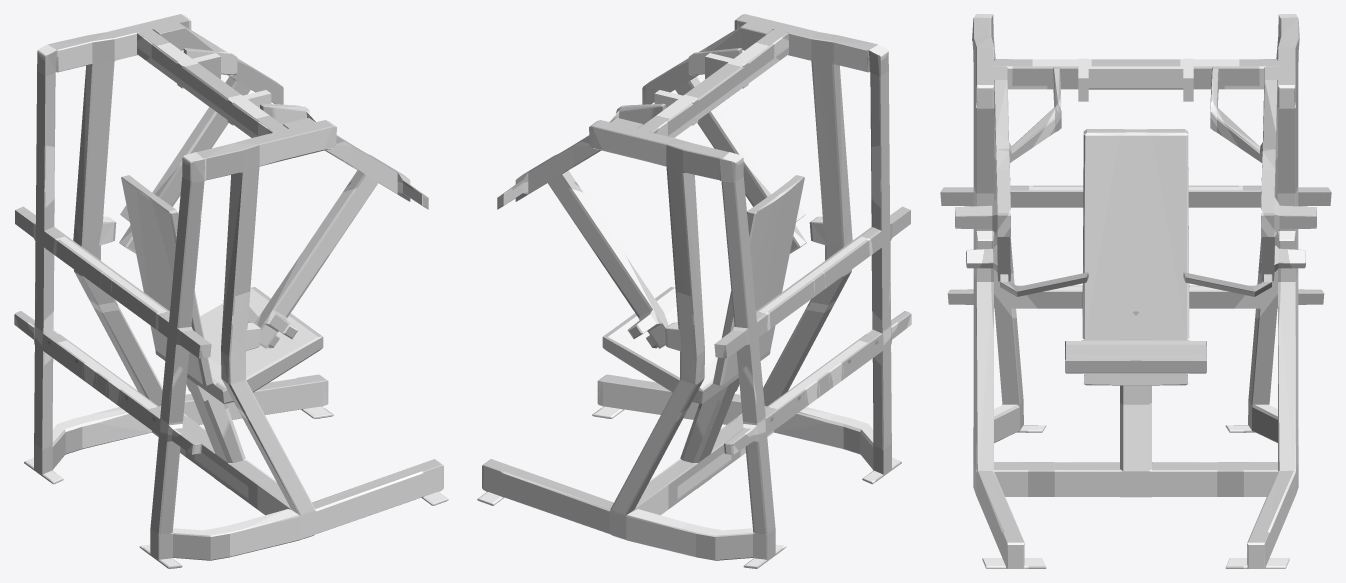
File: chest_press.fbx
3 views of the same model, side by side, from view 1: azimuth 30°, elevation 25°; view 2: azimuth 150°, elevation 25°; view 3: azimuth 270°, elevation 25° (orthographic). The views are drawn at different scales.
Parts seen in each view (by area): view 1: press; view 2: press; view 3: press.
Part boxes in pixels (left/top/right/bottom): press: left=14, top=14, right=448, bottom=568; press: left=477, top=14, right=911, bottom=568; press: left=940, top=14, right=1331, bottom=568.
Size of the model in its own units: 304 by 415 by 347.
